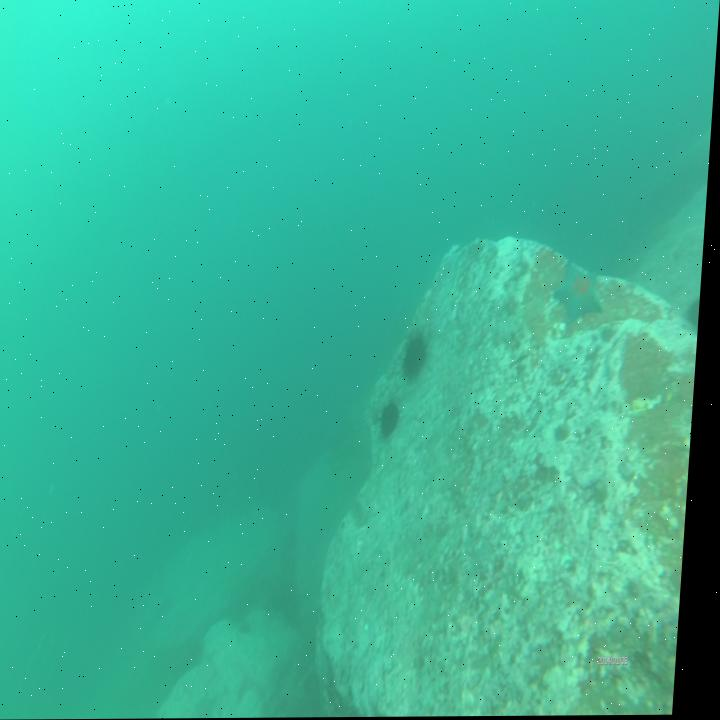echinus: (402, 322, 436, 386), (381, 393, 410, 445)
starfish: (556, 252, 613, 331)
